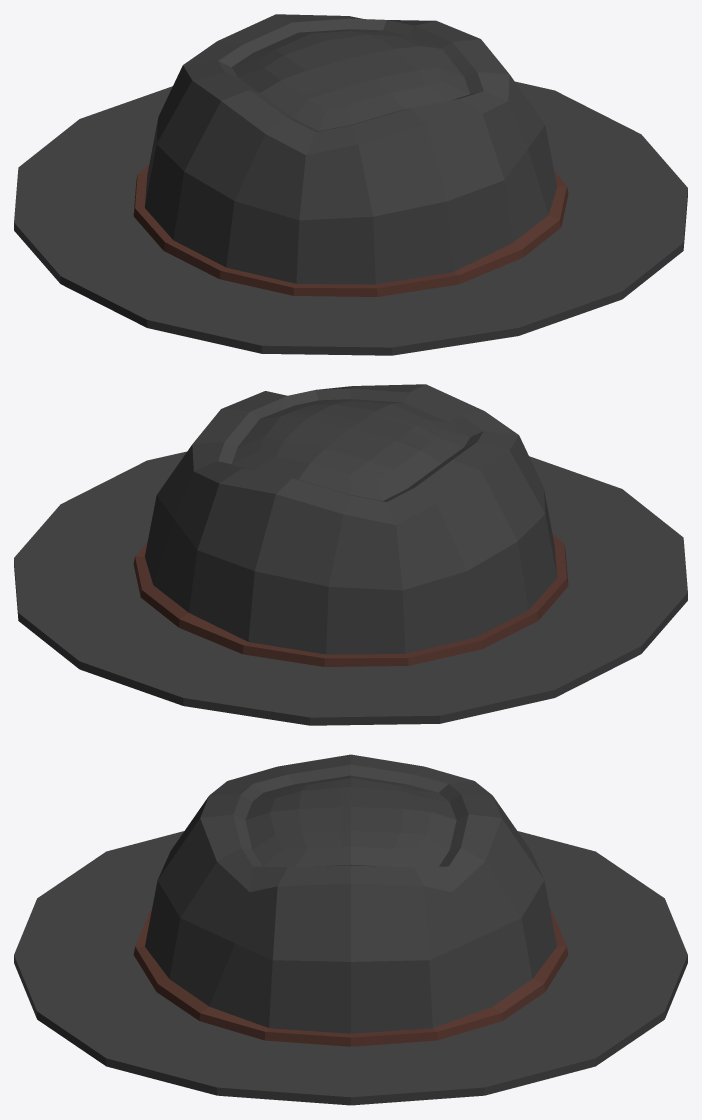
Rendered from Hat_Black.fbx.
The picture shows the model from 3 angles, top to bottom: view 1: azimuth 30°, elevation 25°; view 2: azimuth 150°, elevation 25°; view 3: azimuth 270°, elevation 25°; orthographic projection.
Visible parts, largest first — view 1: Cube, Cube.001; view 2: Cube, Cube.001; view 3: Cube, Cube.001.
Boxes of the visible parts, box(x1,y1,x2,y2) form: Cube: box(14, 14, 687, 355); Cube.001: box(133, 164, 568, 296); Cube: box(14, 384, 687, 725); Cube.001: box(133, 534, 568, 666); Cube: box(14, 754, 687, 1105); Cube.001: box(133, 909, 568, 1046).
Size of the model in its own units: 334 by 85.31 by 334.
Materials: 1 (1 with a texture image).
